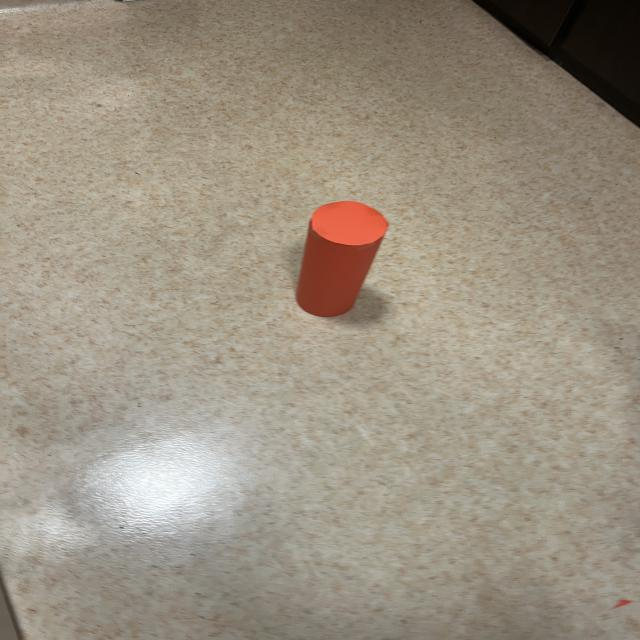przeszkoda: (296, 201, 388, 317)
